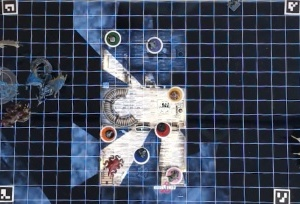blue: (133, 144, 153, 164)
green: (103, 28, 124, 46)
orange: (98, 125, 118, 143)
pink: (164, 166, 185, 186)
red: (154, 121, 171, 137)
violet: (144, 34, 166, 54)
yellow: (167, 83, 186, 101)
